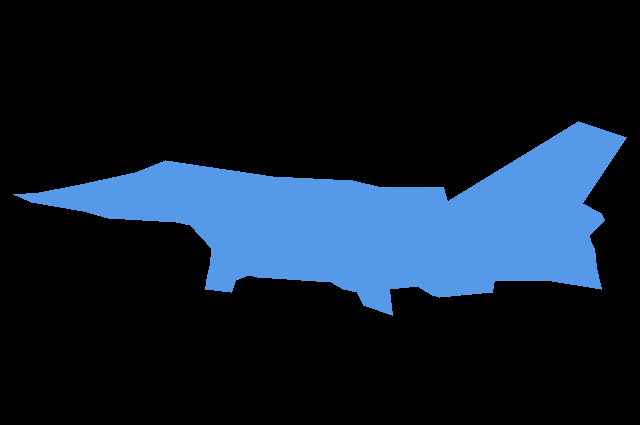Airplane: (13, 121, 627, 315)
